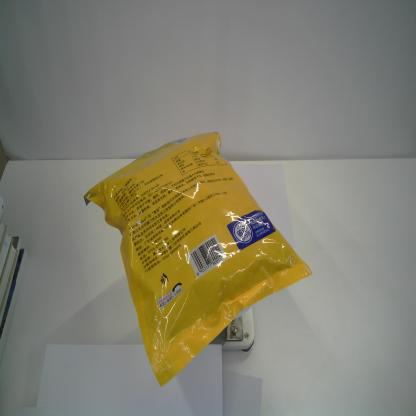Dried Food: (82, 130, 314, 389)
